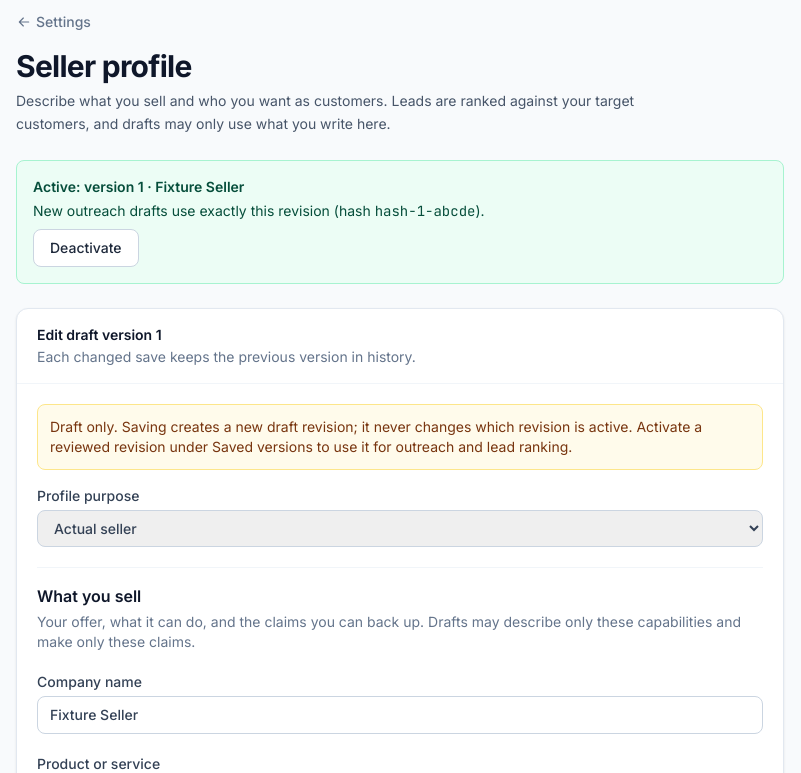
seller profile activation › deactivates the active revision with the current sequence
This screenshot has width=801, height=773.
What coordinates should you click on to do the following:
click the button "Deactivate"
I would click on:
 (86, 248)
Its box is top-left (33, 228), bottom-right (138, 266).
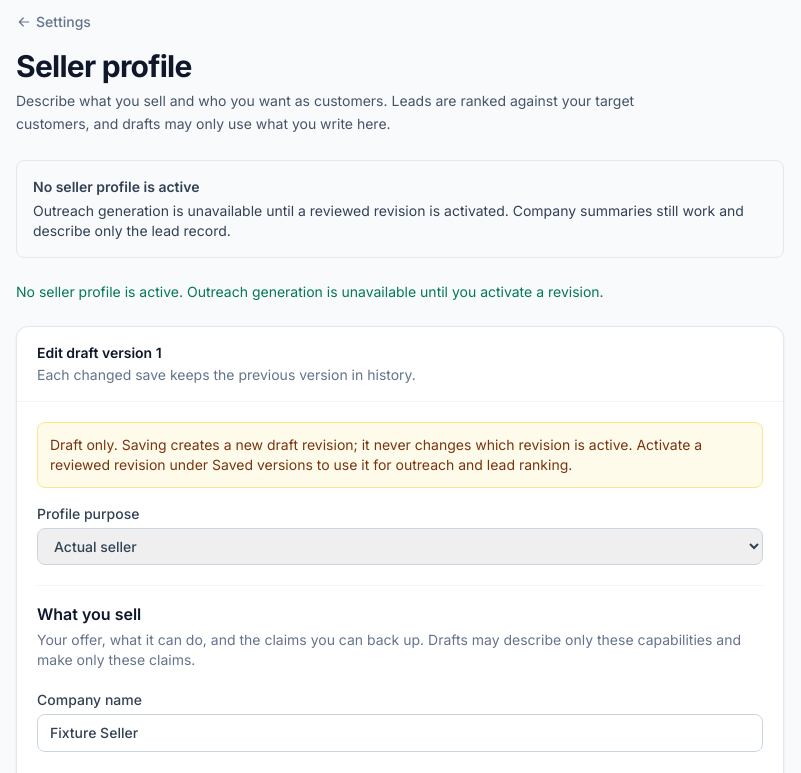
expect the text "No seller profile is active. Outreach generation is unavailable" is shown: met, box top-left (16, 282), bottom-right (604, 300)
expect the text "No seller profile is active" is shown: met, box top-left (33, 178), bottom-right (199, 194)
